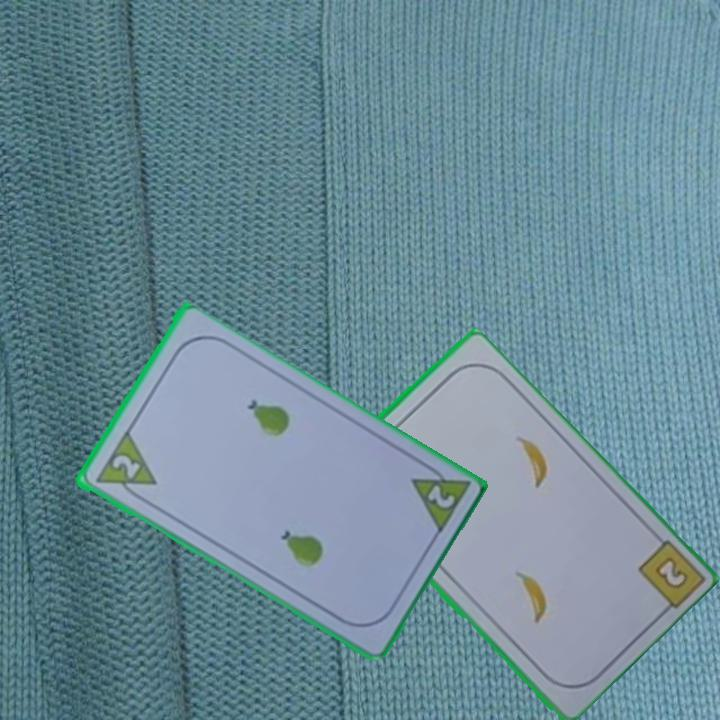2b: (650, 552, 691, 593)
2p: (406, 457, 473, 539), (90, 429, 159, 506)
